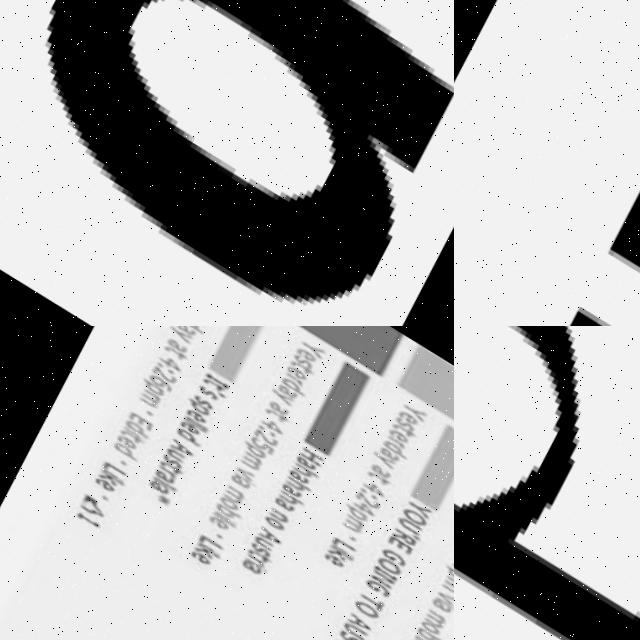0: (355, 473, 383, 494), (154, 351, 182, 372), (346, 494, 373, 514), (256, 413, 281, 432), (444, 552, 454, 573)
1: (244, 432, 272, 453)
2: (142, 368, 173, 393)
D: (454, 326, 640, 640)
M: (472, 0, 640, 326)
P: (37, 0, 448, 293)
